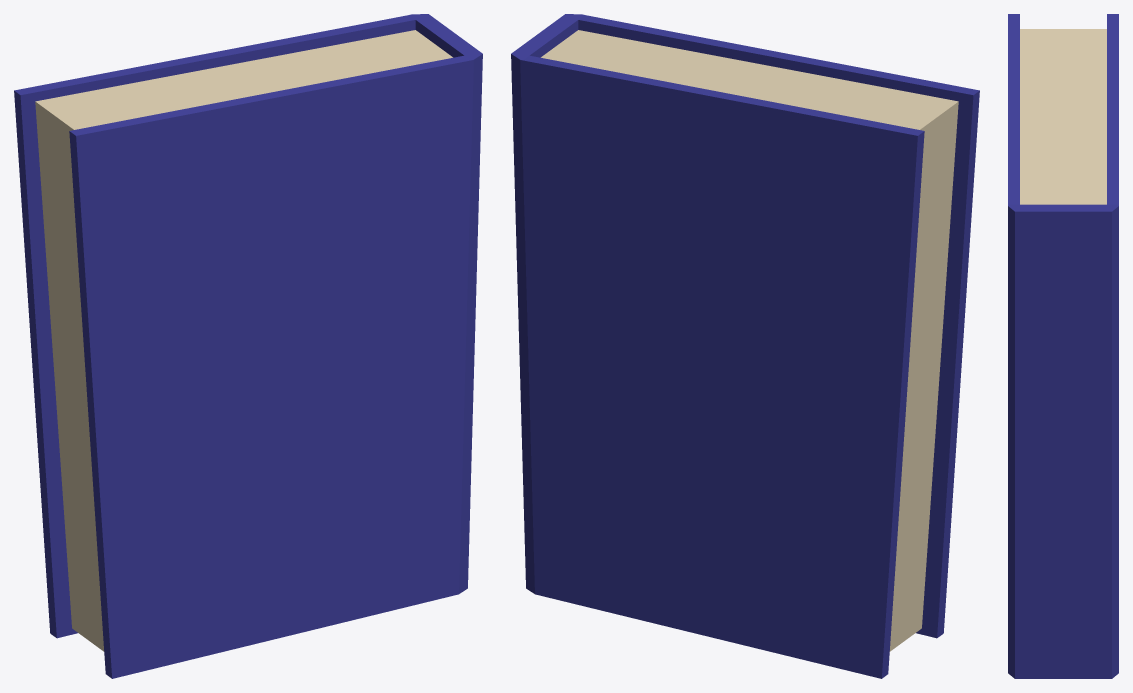
The model's file is Book_01.glb.
The picture shows the model from 3 angles, left to right: view 1: azimuth 30°, elevation 25°; view 2: azimuth 150°, elevation 25°; view 3: azimuth 270°, elevation 25°; orthographic projection. The views are drawn at different scales.
Parts seen in each view (by area): view 1: Book; view 2: Book; view 3: Book.
Boxes of the visible parts, box(x1,y1,x2,y2) form: Book: box(14, 14, 482, 678); Book: box(511, 14, 979, 678); Book: box(1008, 14, 1118, 678).
Bounding box in the file's own units: 0.2429 × 0.3119 × 0.0635.
